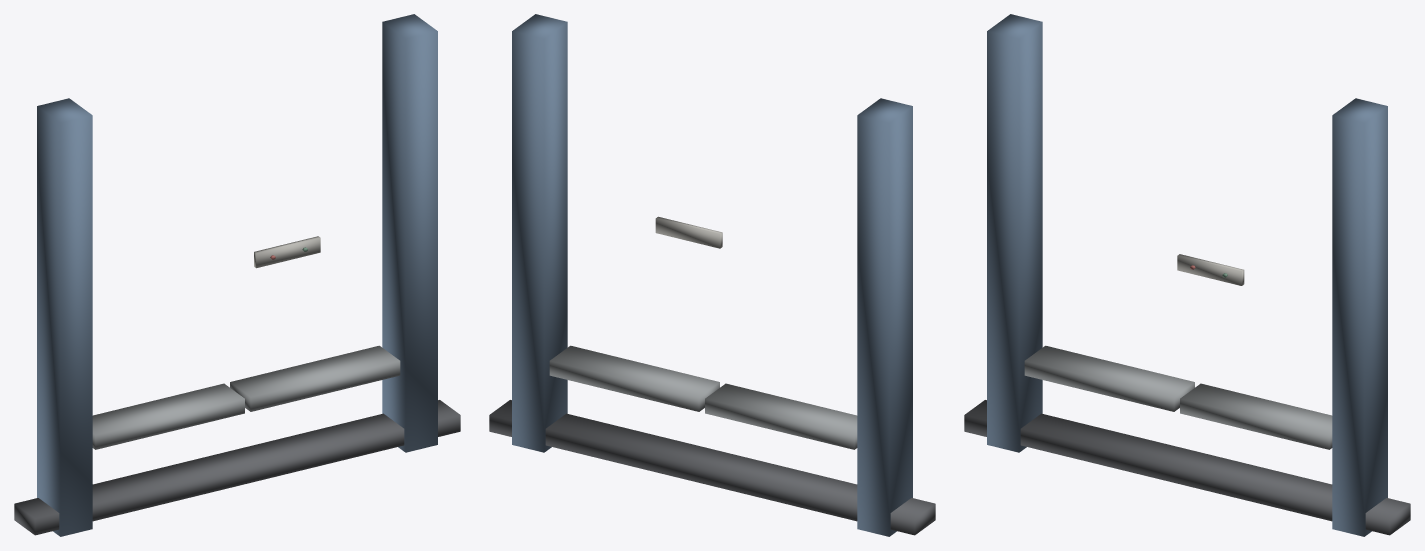
File: two_post_car_lift__squat.glb
3 renders of one model, left to right at view 1: azimuth 30°, elevation 25°; view 2: azimuth 150°, elevation 25°; view 3: azimuth 330°, elevation 25°, orthographic.
Visible parts, largest first — view 1: world; view 2: world; view 3: world.
Part boxes in pixels (box(x1,y1,x2,y2)): world: box(14, 14, 460, 536); world: box(489, 14, 935, 536); world: box(964, 14, 1410, 536).
Bounding box in the file's own units: 2.04 × 1.89 × 0.2279.
